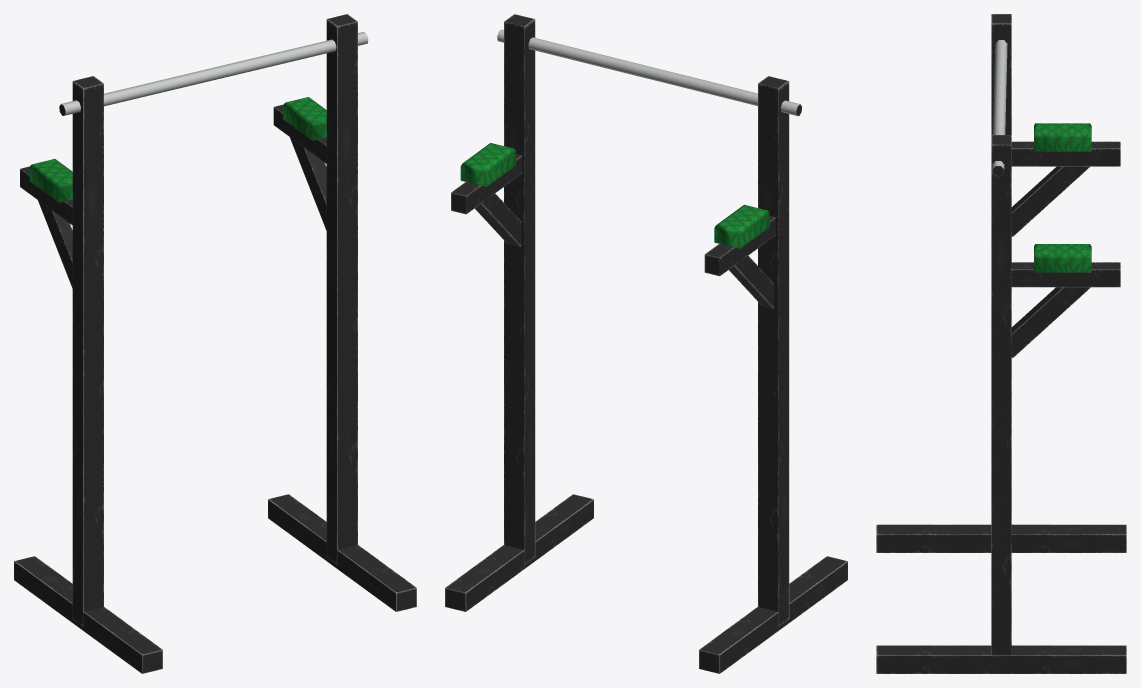
File: chin up.fbx
3 renders of one model, left to right at view 1: azimuth 30°, elevation 25°; view 2: azimuth 150°, elevation 25°; view 3: azimuth 270°, elevation 25°, orthographic. The views are drawn at different scales.
Visible parts, largest first — view 1: chin_up; view 2: chin_up; view 3: chin_up.
Boxes of the visible parts, x1,y1,x2,y2 form: chin_up: (14, 14, 416, 673); chin_up: (445, 14, 847, 673); chin_up: (876, 14, 1126, 673).
Size of the model in its own units: 394 by 677 by 290.
